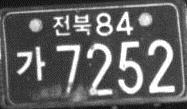2: (145, 37, 176, 93), (86, 42, 114, 97)
4: (115, 10, 134, 36)
5: (117, 40, 144, 95)
7: (54, 43, 83, 95)
8: (95, 11, 113, 37)
가: (15, 45, 46, 81)
전북_O: (52, 13, 92, 37)
